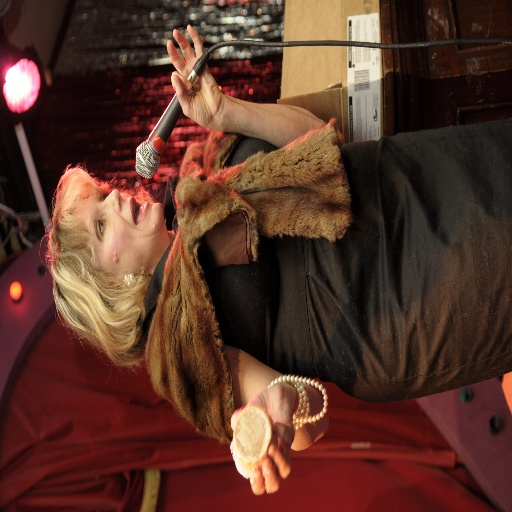hand: (229, 382, 294, 493), (158, 25, 232, 119)
